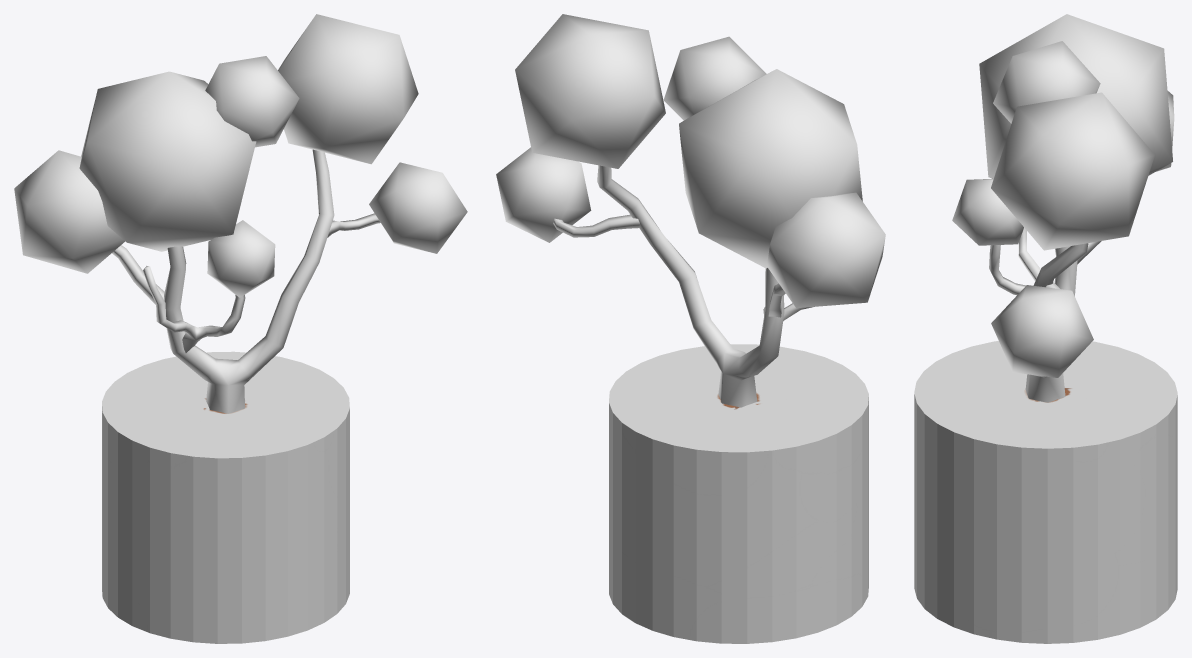
File: polytree.glb
The picture shows the model from 3 angles, left to right: view 1: azimuth 30°, elevation 25°; view 2: azimuth 150°, elevation 25°; view 3: azimuth 270°, elevation 25°; orthographic projection. The views are drawn at different scales.
Parts seen in each view (by area): view 1: node_id3; view 2: node_id3; view 3: node_id3.
Boxes of the visible parts, x1,y1,x2,y2 form: node_id3: (14, 14, 467, 643); node_id3: (496, 14, 885, 643); node_id3: (914, 14, 1177, 643).
Size of the model in its own units: 0.4026 by 0.512 by 0.22.
1 material, 1 textured.
